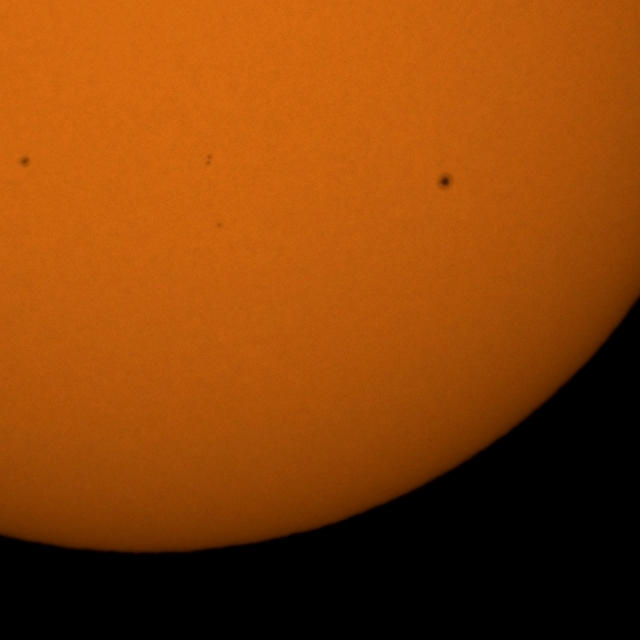sunspot: (436, 172, 453, 191), (18, 155, 32, 169), (204, 153, 214, 166), (215, 220, 225, 231)
